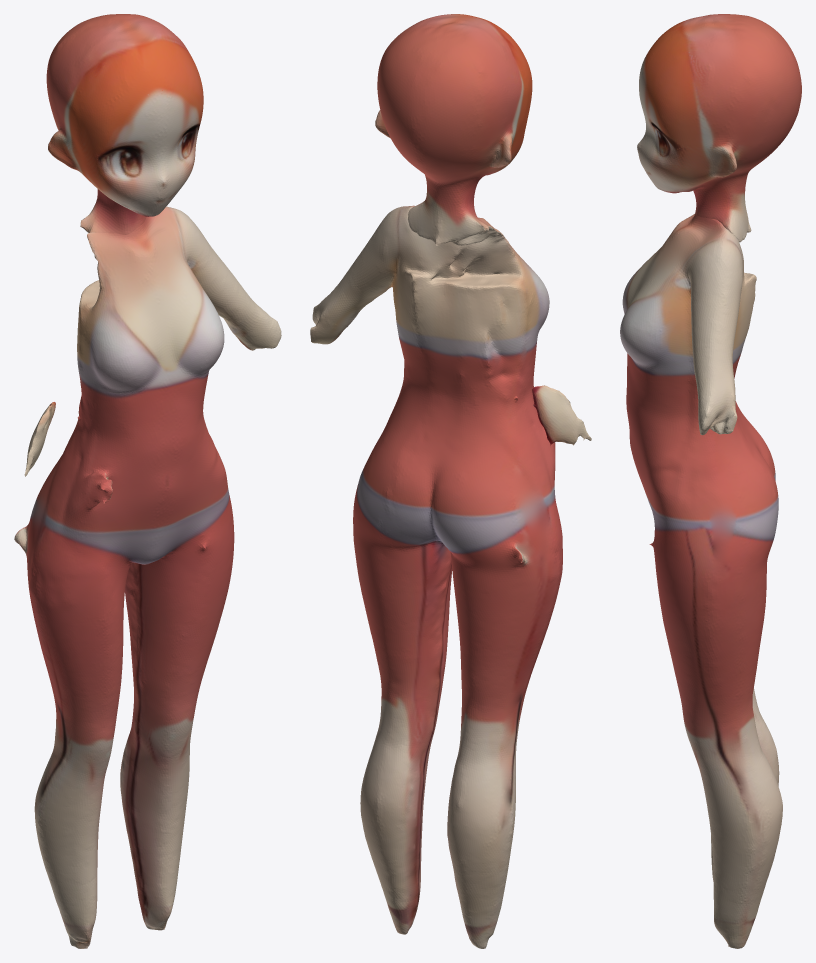
3 renders of one model, left to right at view 1: azimuth 30°, elevation 25°; view 2: azimuth 150°, elevation 25°; view 3: azimuth 270°, elevation 25°, orthographic.
Visible parts, largest first — view 1: world; view 2: world; view 3: world.
Part boxes in pixels (x1,y1,x2,y2): world: [14, 14, 281, 948]; world: [310, 14, 591, 948]; world: [620, 14, 801, 948].
Size of the model in its own units: 0.5527 by 1.81 by 0.3295.
